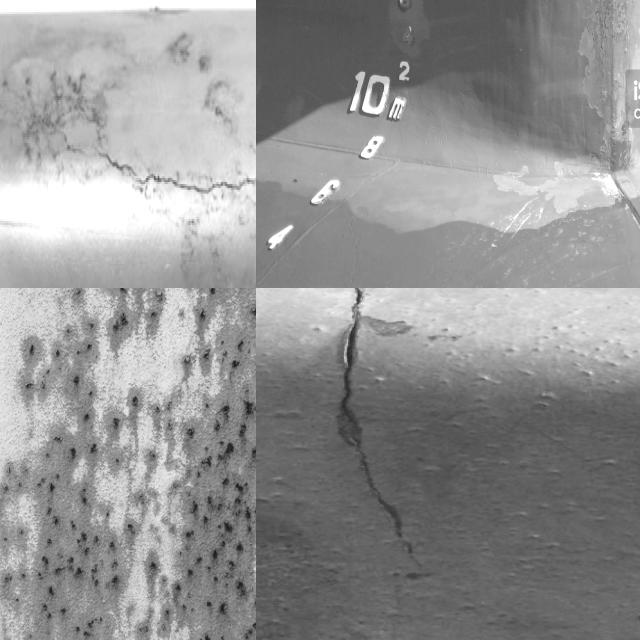Crack: (0, 49, 256, 243), (338, 288, 399, 538)
Pitting Corrosion: (0, 288, 256, 640)
Uniform Corrosion: (578, 0, 640, 171)
